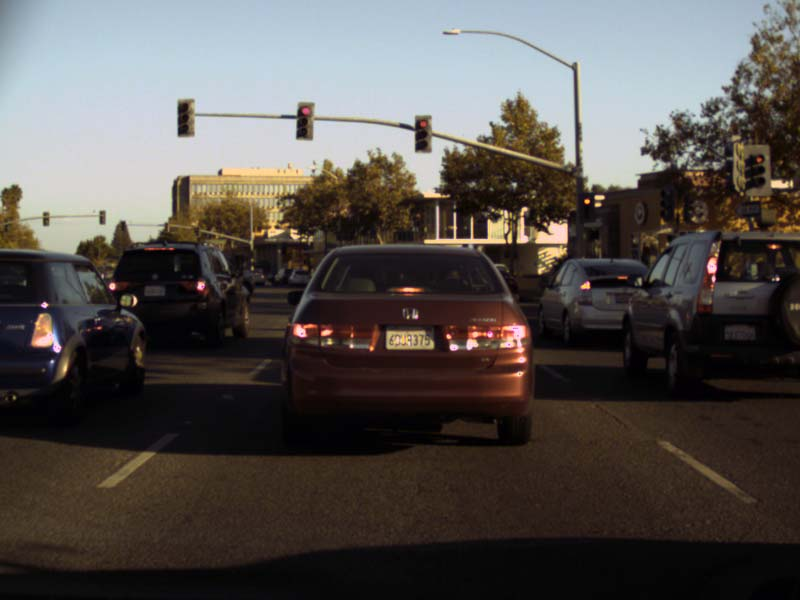Red: (744, 144, 771, 194), (296, 102, 313, 139), (414, 115, 431, 152), (580, 193, 594, 222)
